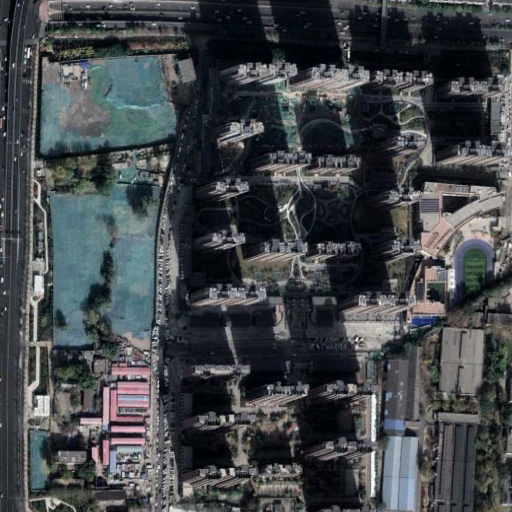cw: (49, 165, 162, 347), (40, 55, 174, 155), (27, 428, 52, 491)
